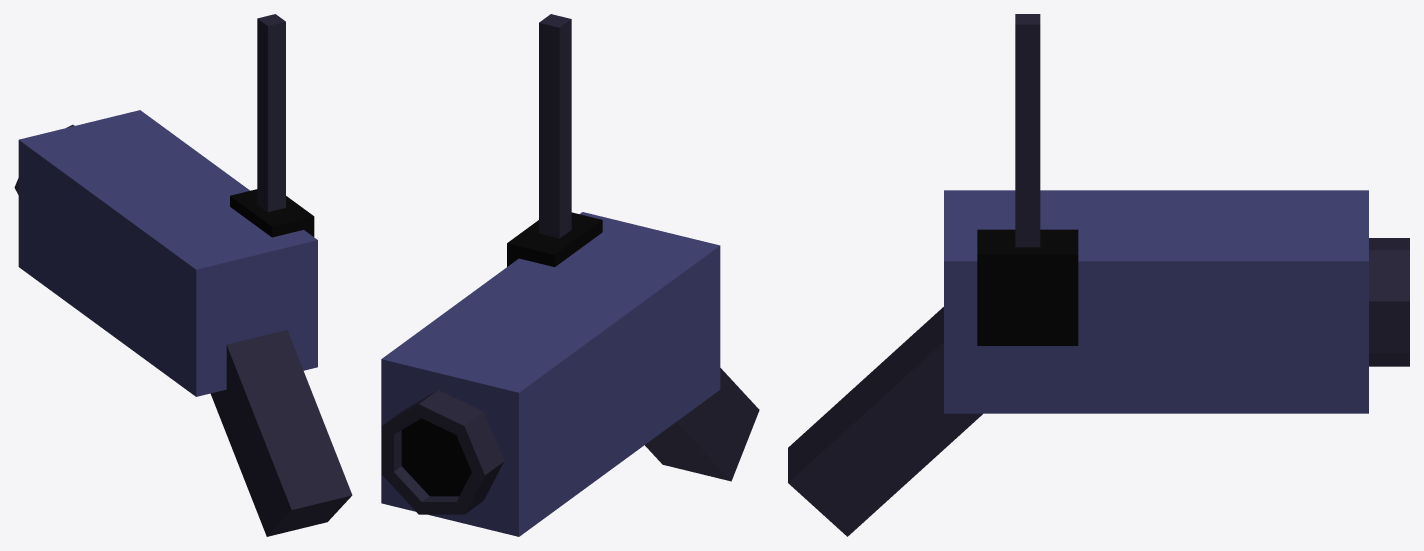
The model's file is CCTV.glb.
3 renders of one model, left to right at view 1: azimuth 30°, elevation 25°; view 2: azimuth 150°, elevation 25°; view 3: azimuth 270°, elevation 25°, orthographic. The views are drawn at different scales.
Parts seen in each view (by area): view 1: Cube, Cube.001; view 2: Cube, Cube.001; view 3: Cube, Cube.001.
Boxes of the visible parts, left/top/right/bottom form: Cube: left=14, top=14, right=317, bottom=396; Cube.001: left=210, top=330, right=352, bottom=536; Cube: left=381, top=14, right=720, bottom=536; Cube.001: left=645, top=368, right=759, bottom=481; Cube: left=944, top=14, right=1409, bottom=413; Cube.001: left=788, top=307, right=982, bottom=536.
Bounding box in the file's own units: 0.4345 × 1.39 × 1.48.
1 material, 1 textured.
